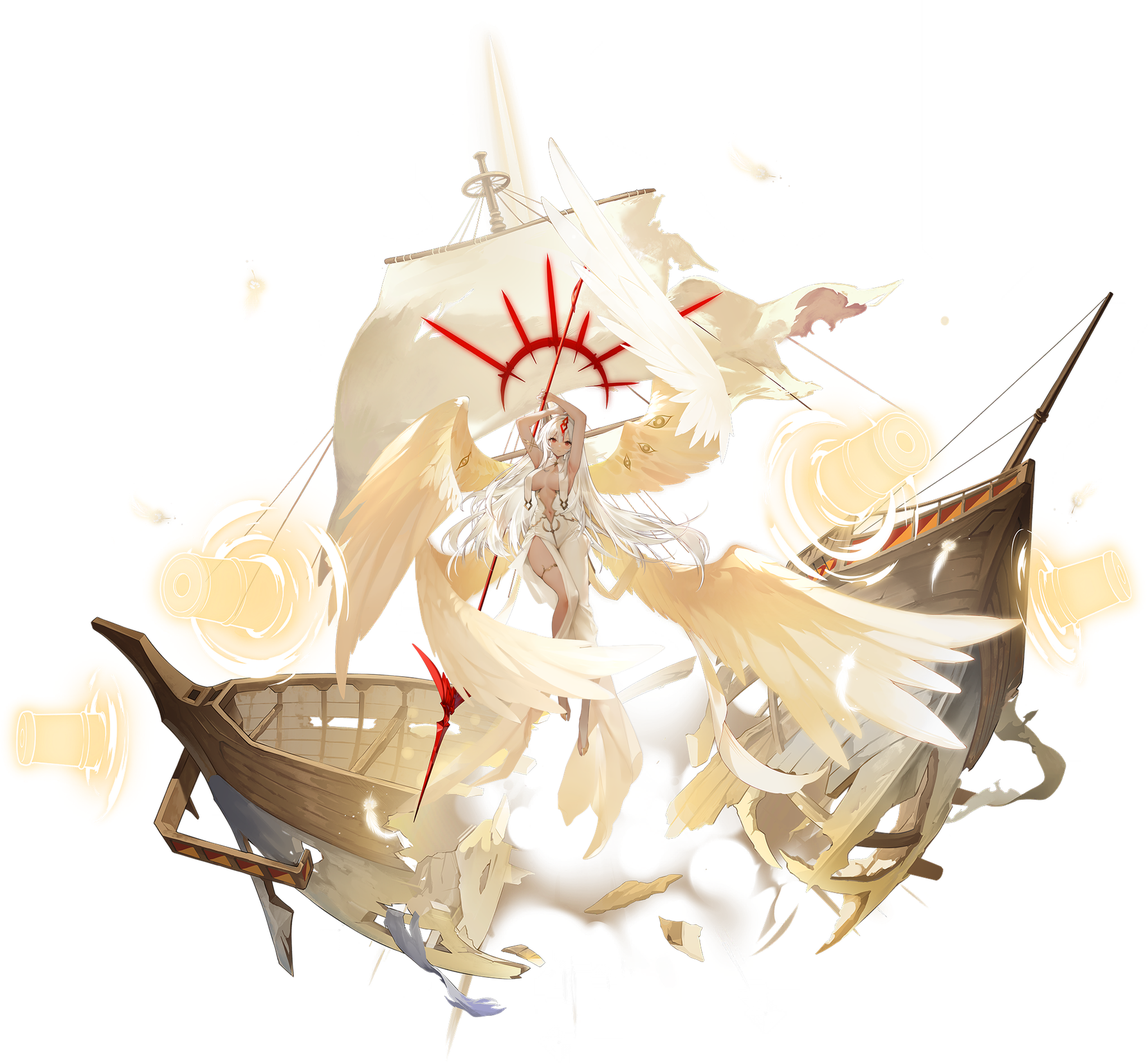person: (2, 23, 1143, 1060)
